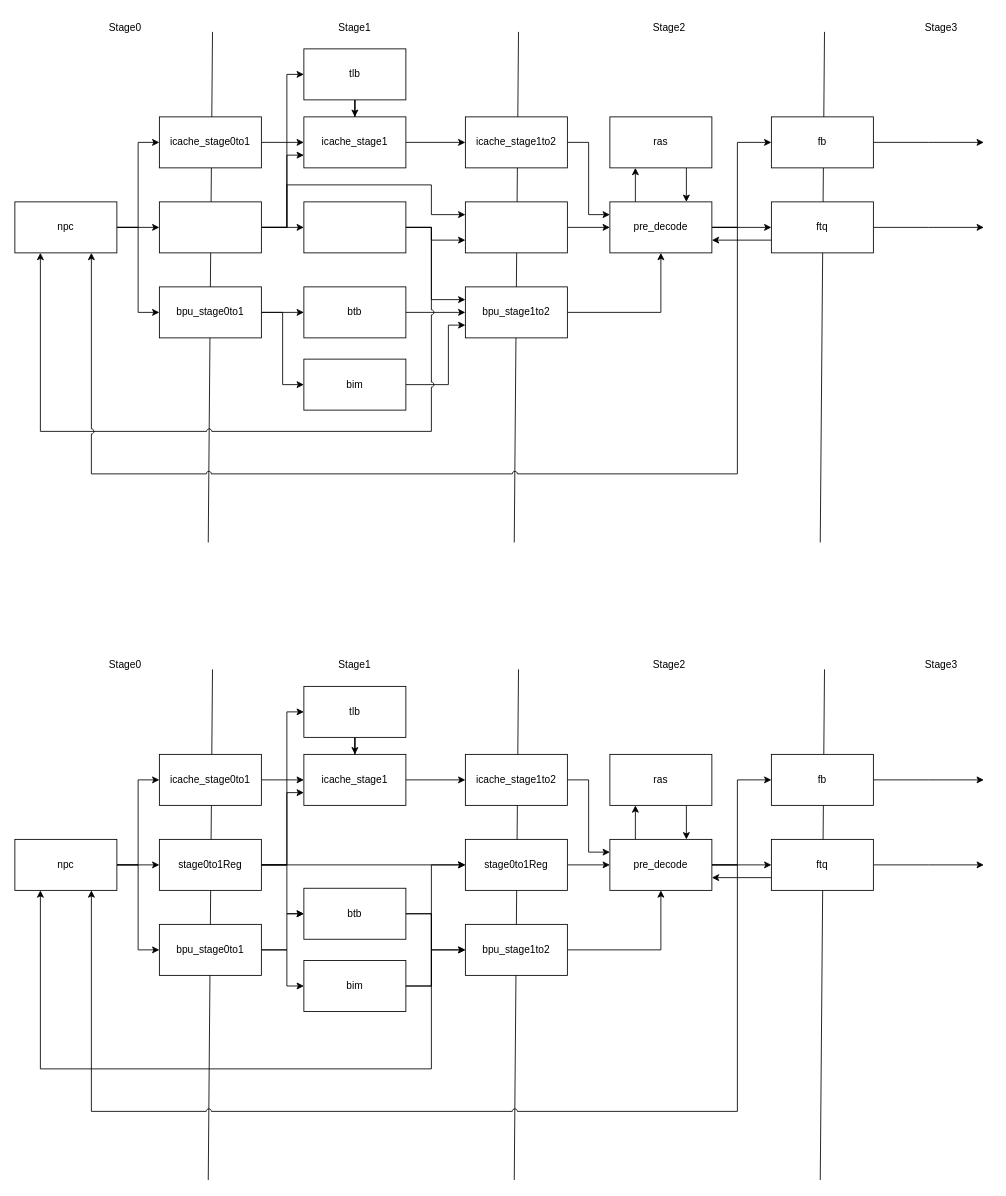
Some shapes in this 1006 by 1196 pixel diagram are drawn without their labels. The shapes that lost their labels are listed below. From the top down, each one's centre as x and y in pixels, then its label:
At (210,227): "stage0to1".
At (354,227): "faubtb".
At (516,227): "stage1to2".
